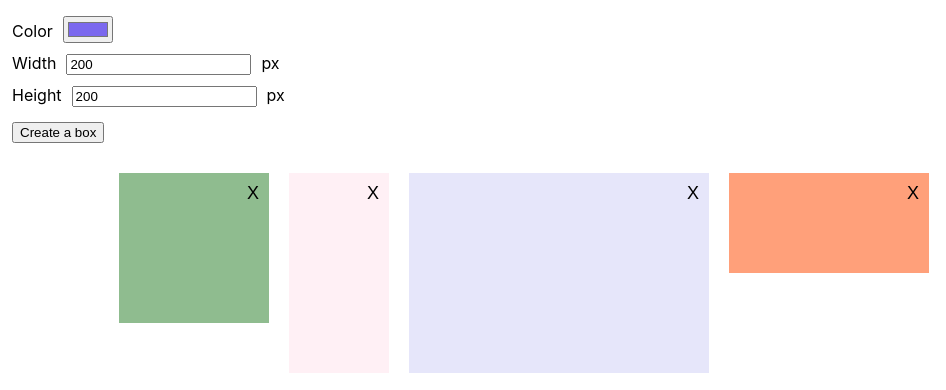
removes the box after click the button
Check: the element with test id "Lavender" is shown, box x1=409 y1=173 x2=709 y2=373
Click the button with test id "Lavender-button": click(693, 194) x1=677 y1=178 x2=709 y2=209
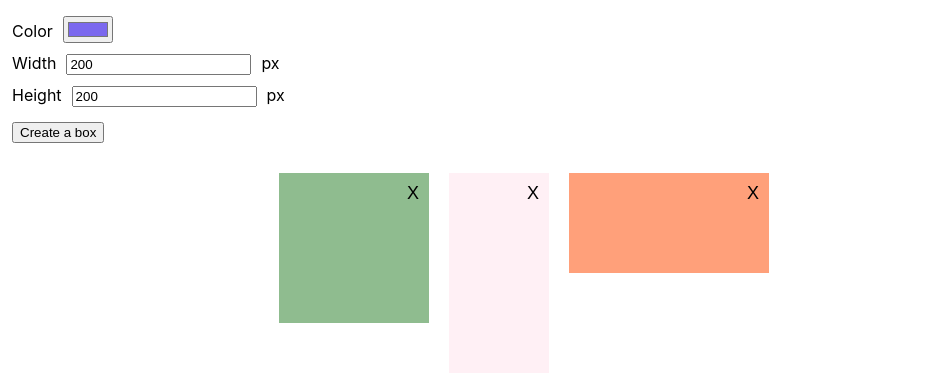
Check: the element with test id "Lavender" is gone
